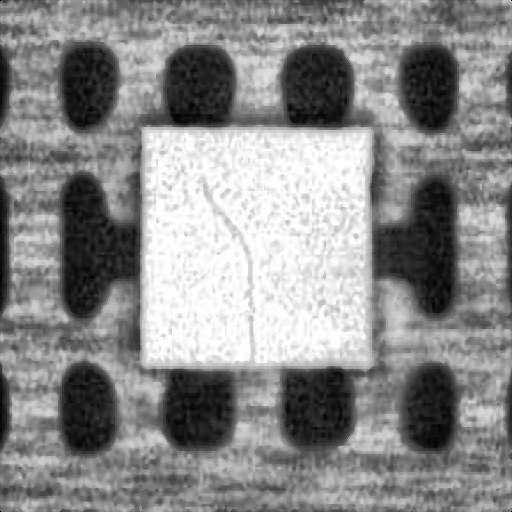DIE_CRACK: (198, 173, 257, 358)
